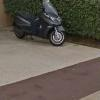Motorcycle: (7, 7, 74, 46)
